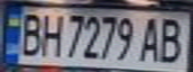2: (81, 11, 103, 60)
7: (100, 12, 121, 61), (63, 11, 84, 58)
9: (115, 12, 139, 61)
A: (136, 15, 166, 63)
B: (154, 15, 190, 63), (15, 10, 45, 57)
H: (36, 10, 66, 57)
